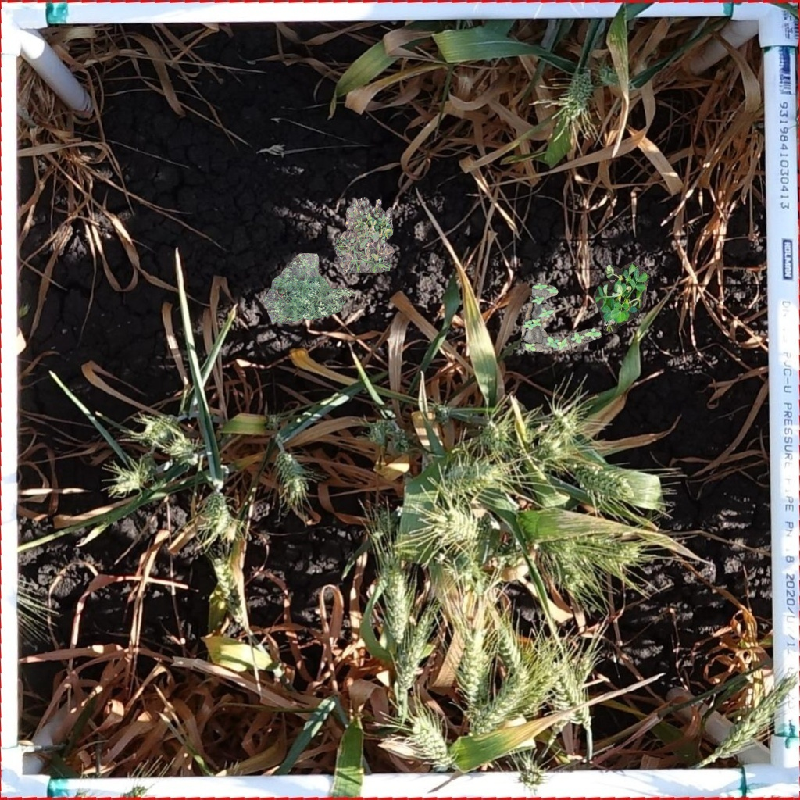spikelet: (711, 684, 778, 760), (391, 602, 439, 699), (471, 666, 531, 737), (454, 624, 493, 722), (210, 554, 253, 630), (517, 649, 565, 717), (405, 709, 457, 770), (551, 655, 594, 728), (438, 456, 508, 497), (570, 459, 634, 501), (380, 567, 413, 643), (427, 503, 483, 546), (552, 537, 593, 593), (487, 618, 524, 673), (557, 67, 595, 120), (273, 448, 311, 501), (587, 533, 643, 568), (539, 404, 581, 448), (367, 416, 413, 454), (200, 488, 234, 537), (107, 462, 150, 495), (139, 412, 178, 445), (367, 505, 399, 541), (166, 433, 203, 464), (477, 417, 513, 447), (523, 753, 548, 788)
weed: (264, 253, 357, 324), (521, 283, 602, 352), (592, 263, 662, 341), (334, 197, 395, 273)
